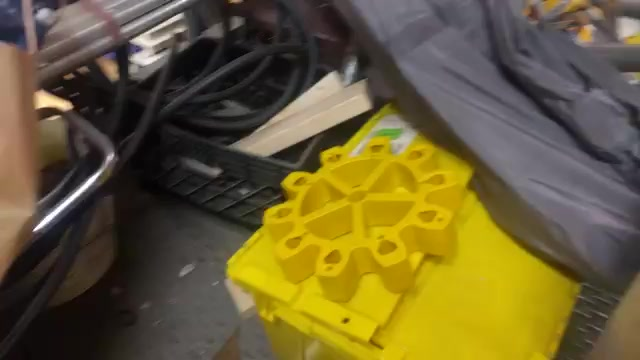gear: (256, 124, 457, 308)
